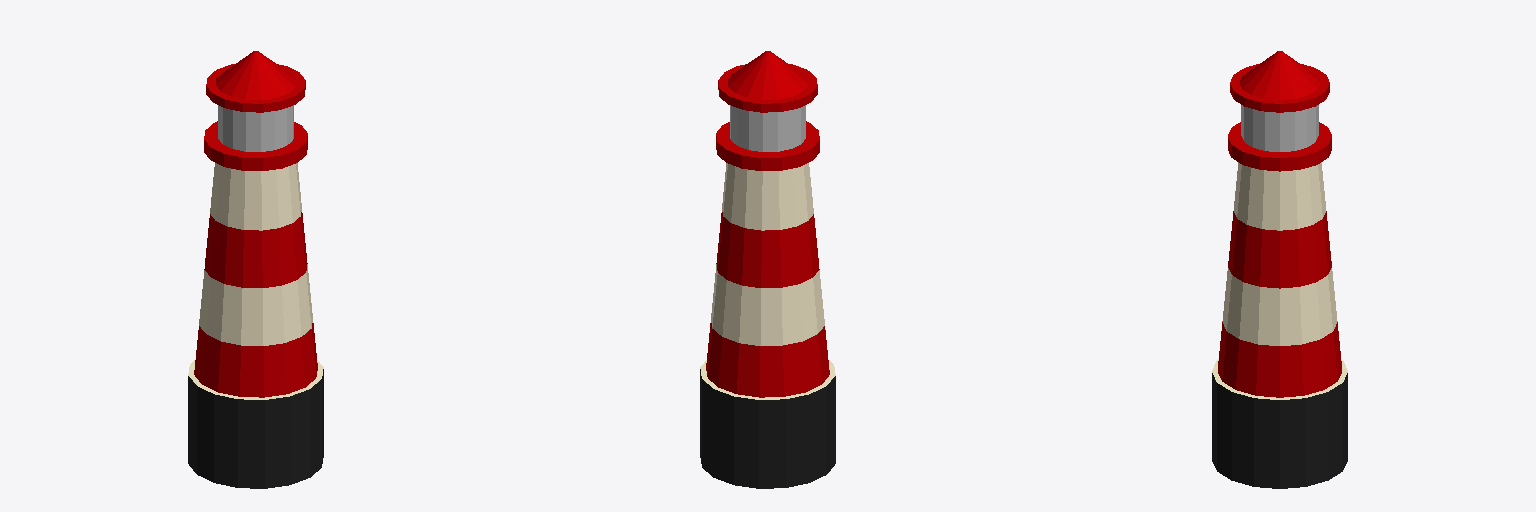
The model's file is Lighthouse.obj.
The picture shows the model from 3 angles: view 1: azimuth 30°, elevation 25°; view 2: azimuth 150°, elevation 25°; view 3: azimuth 270°, elevation 25°; orthographic projection.
Visible parts, largest first — view 1: Lighthouse_Cylinder; view 2: Lighthouse_Cylinder; view 3: Lighthouse_Cylinder.
Boxes of the visible parts, x1=… form: Lighthouse_Cylinder: x1=188, y1=51, x2=323, y2=488; Lighthouse_Cylinder: x1=700, y1=51, x2=835, y2=488; Lighthouse_Cylinder: x1=1212, y1=51, x2=1347, y2=488.
Size of the model in its own units: 2 by 6.6 by 2.